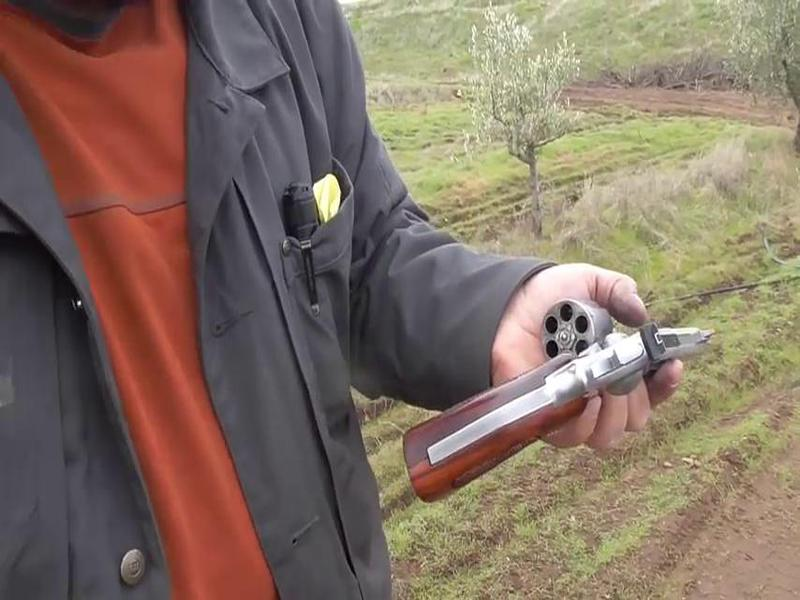Revolver: (420, 263, 751, 530)
